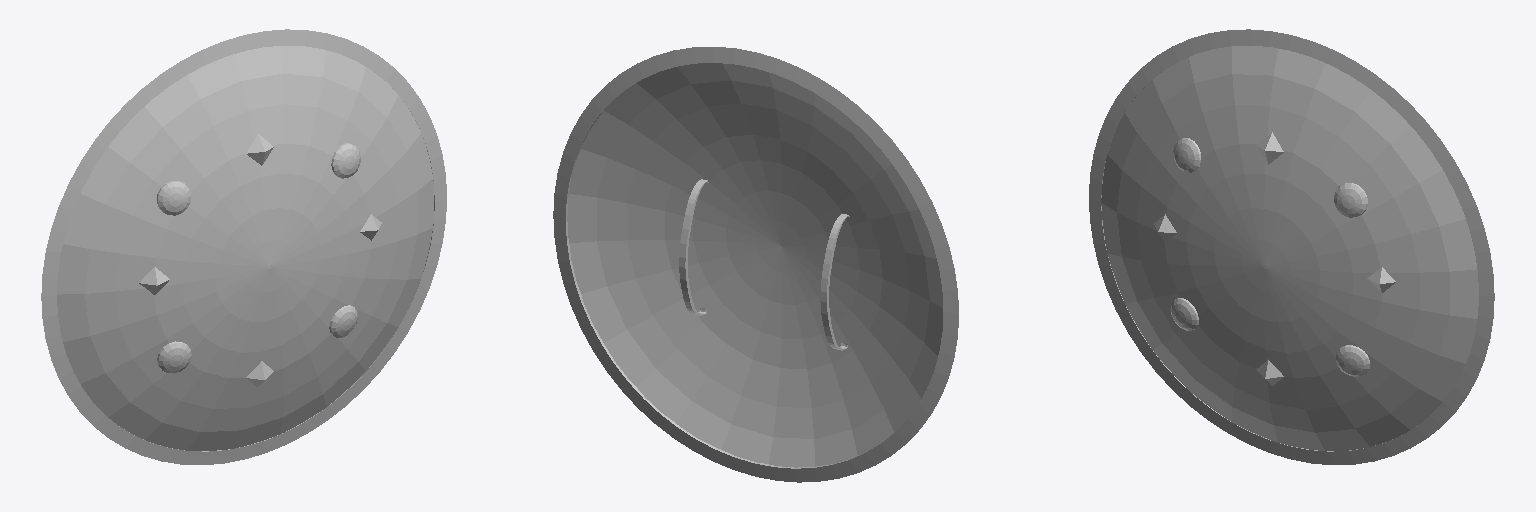
Rendered from MC_Shield.obj.
3 views of the same model, side by side, from view 1: azimuth 30°, elevation 25°; view 2: azimuth 150°, elevation 25°; view 3: azimuth 330°, elevation 25° (orthographic).
Visible parts, largest first — view 1: RndShield.lwo; view 2: RndShield.lwo; view 3: RndShield.lwo.
Boxes of the visible parts, <box> form: RndShield.lwo: <box>41,29,446,464</box>; RndShield.lwo: <box>553,47,958,482</box>; RndShield.lwo: <box>1089,29,1494,464</box>.
Size of the model in its own units: 1.18 by 1.18 by 0.1509.